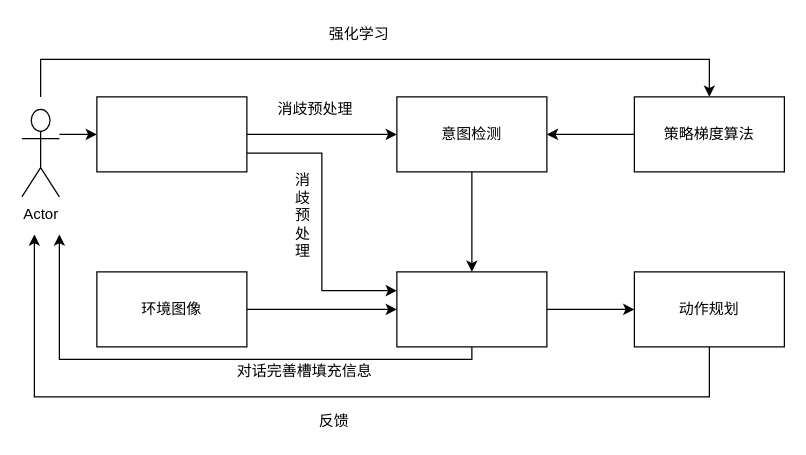
Image size: 806x455. Some labels were removed from this diagram. Here are the shapes that lost their labels. From the top down, the centre of each, then its label:
At (171,134): "自然语言指令".
At (471,309): "槽填充".
